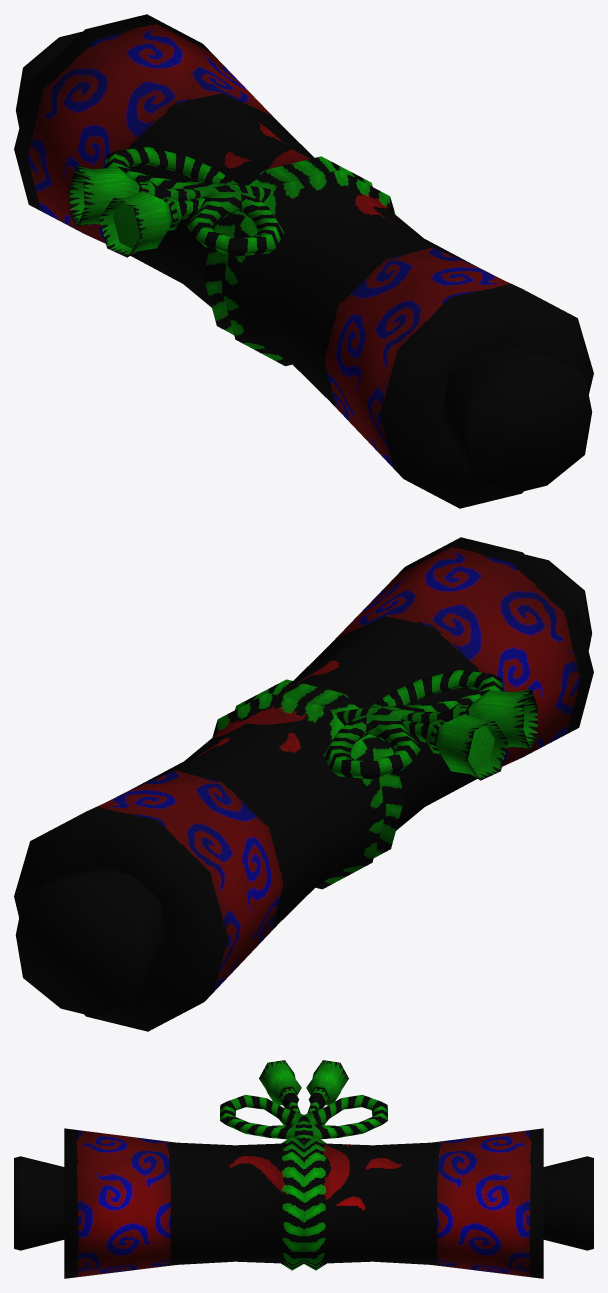
The picture shows the model from 3 angles, top to bottom: view 1: azimuth 30°, elevation 25°; view 2: azimuth 150°, elevation 25°; view 3: azimuth 270°, elevation 25°; orthographic projection. The views are drawn at different scales.
Parts seen in each view (by area): view 1: C1252; view 2: C1252; view 3: C1252.
Boxes of the visible parts, <box> form: C1252: <box>14,14,593,508</box>; C1252: <box>14,537,593,1031</box>; C1252: <box>14,1060,593,1278</box>.
Size of the model in its own units: 0.1209 by 0.0832 by 0.3015.
